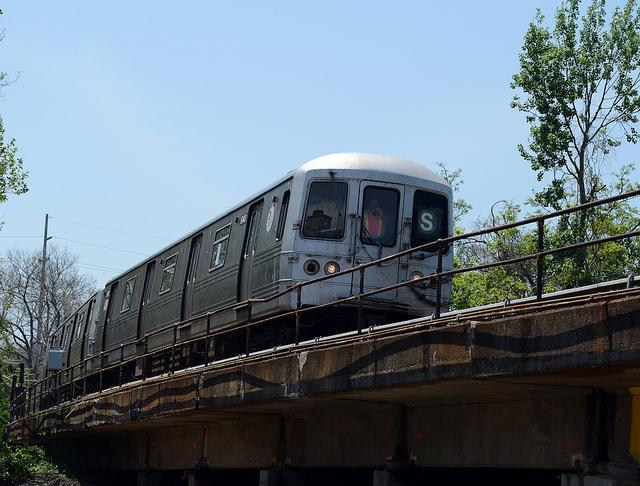Train: (40, 153, 454, 412)
